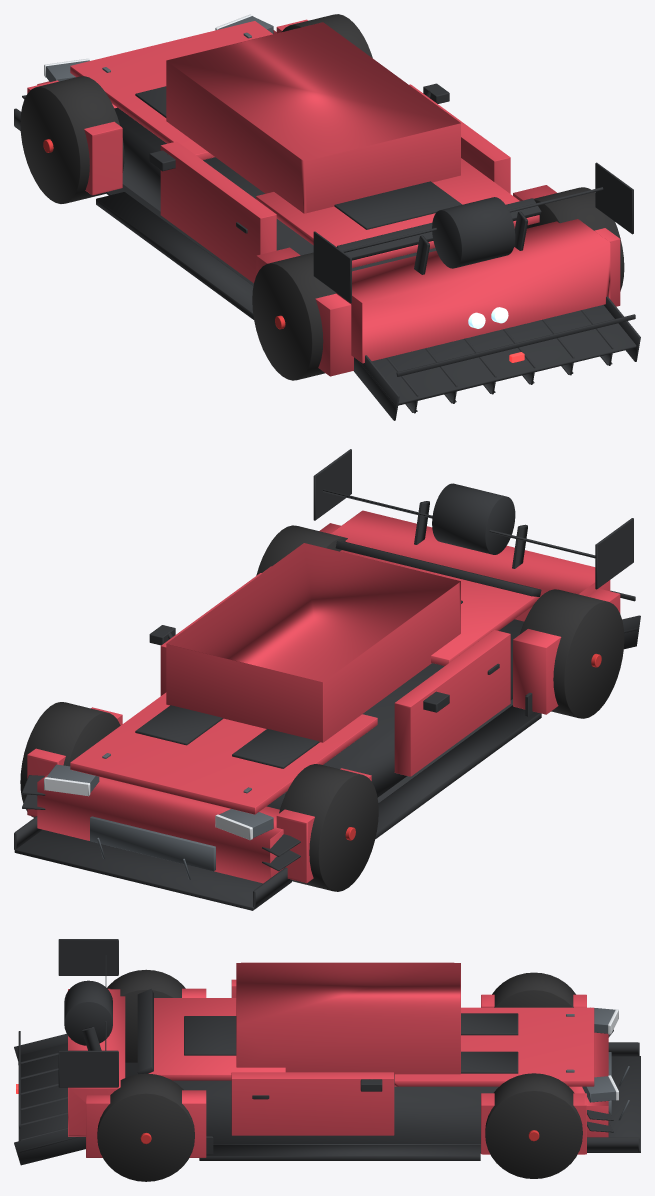
File: modular_gt3_apex.glb
3 renders of one model, top to bottom at view 1: azimuth 30°, elevation 25°; view 2: azimuth 150°, elevation 25°; view 3: azimuth 270°, elevation 25°, orthographic. The views are drawn at different scales.
Visible parts, largest first — view 1: Mesh_Roof_Canopy, Rear_Bumper_Fascia, Diffuser_Curved_Ramp, Door_Main_Skin_Left, Tire_Slick_Rubber_FL, Tire_Slick_Rubber_RL, Bonnet_Hood_Skin, Dicky_Engine_Cover_Skin, Side_Skirts_Left, Wing_Main_Aerofoil, Mesh_Chassis_Monocoque, Dicky_Cooling_Louvers (+14 smaller); view 2: Mesh_Roof_Canopy, Bonnet_Hood_Skin, Mesh_Front_Bumper_Fascia, Door_Main_Skin_Left, Tire_Slick_Rubber_RL, Tire_Slick_Rubber_FL, Rear_Bumper_Fascia, Front_Splitter_Tray, Side_Skirts_Left, Wing_Main_Aerofoil, Mesh_Chassis_Monocoque, Dicky_Engine_Cover_Skin (+15 smaller); view 3: Mesh_Roof_Canopy, Door_Main_Skin_Right, Mesh_Chassis_Monocoque, Bonnet_Hood_Skin, Tire_Slick_Rubber_RR, Tire_Slick_Rubber_FR, Dicky_Engine_Cover_Skin, Side_Skirts_Right, Diffuser_Curved_Ramp, Wing_Main_Aerofoil, Rear_Bumper_Fascia, Tire_Slick_Rubber_FL (+19 smaller).
Boxes of the visible parts, bbox=[...] form: Mesh_Roof_Canopy: bbox=[166, 22, 460, 213]; Rear_Bumper_Fascia: bbox=[336, 219, 610, 363]; Diffuser_Curved_Ramp: bbox=[357, 305, 636, 405]; Door_Main_Skin_Left: bbox=[160, 141, 276, 283]; Tire_Slick_Rubber_FL: bbox=[20, 76, 124, 203]; Tire_Slick_Rubber_RL: bbox=[252, 252, 335, 380]; Bonnet_Hood_Skin: bbox=[70, 21, 272, 159]; Dicky_Engine_Cover_Skin: bbox=[256, 158, 539, 267]; Side_Skirts_Left: bbox=[96, 192, 253, 319]; Wing_Main_Aerofoil: bbox=[432, 197, 515, 268]; Mesh_Chassis_Monocoque: bbox=[114, 107, 436, 271]; Dicky_Cooling_Louvers: bbox=[334, 181, 462, 229]; Mesh_Roof_Canopy: bbox=[166, 543, 460, 742]; Bonnet_Hood_Skin: bbox=[70, 692, 377, 814]; Mesh_Front_Bumper_Fascia: bbox=[37, 774, 283, 883]; Door_Main_Skin_Left: bbox=[394, 630, 510, 776]; Tire_Slick_Rubber_RL: bbox=[520, 589, 624, 718]; Tire_Slick_Rubber_FL: bbox=[279, 764, 378, 891]; Rear_Bumper_Fascia: bbox=[330, 510, 610, 621]; Front_Splitter_Tray: bbox=[14, 830, 291, 910]; Side_Skirts_Left: bbox=[375, 705, 541, 838]; Wing_Main_Aerofoil: bbox=[432, 483, 515, 554]; Mesh_Chassis_Monocoque: bbox=[266, 619, 523, 809]; Dicky_Engine_Cover_Skin: bbox=[340, 550, 539, 665]; Mesh_Roof_Canopy: bbox=[236, 962, 460, 1074]; Door_Main_Skin_Right: bbox=[231, 1072, 394, 1135]; Mesh_Chassis_Monocoque: bbox=[173, 1074, 498, 1143]; Bonnet_Hood_Skin: bbox=[394, 1007, 594, 1086]; Tire_Slick_Rubber_RR: bbox=[97, 1073, 194, 1181]; Tire_Slick_Rubber_FR: bbox=[485, 1073, 582, 1178]; Dicky_Engine_Cover_Skin: bbox=[148, 998, 285, 1080]; Side_Skirts_Right: bbox=[199, 1145, 480, 1160]; Diffuser_Curved_Ramp: bbox=[18, 1043, 80, 1152]; Wing_Main_Aerofoil: bbox=[64, 980, 112, 1045]; Rear_Bumper_Fascia: bbox=[68, 989, 125, 1136]; Tire_Slick_Rubber_FL: bbox=[492, 972, 575, 1007].
Size of the model in its own units: 2.09 by 0.9897 by 4.36.
